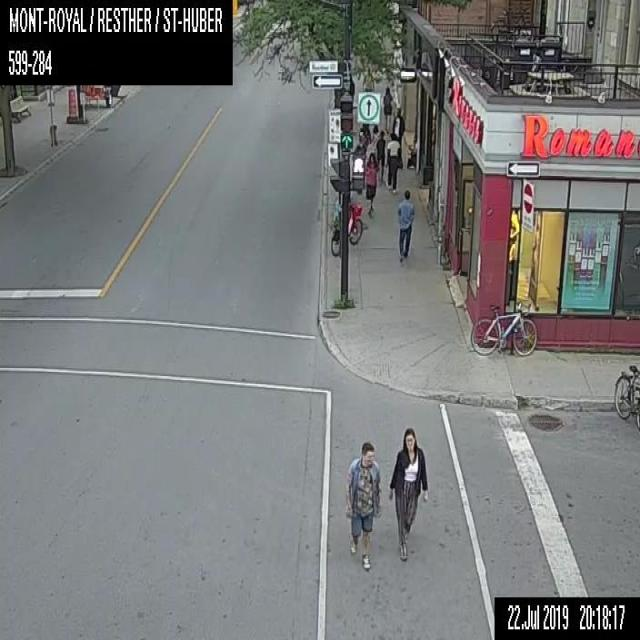construction: (68, 87, 76, 116)
pedestrian: (388, 427, 428, 560), (344, 440, 379, 569), (396, 189, 414, 262), (384, 132, 400, 192), (364, 151, 379, 215), (391, 107, 404, 168), (382, 85, 392, 132), (376, 130, 384, 182), (361, 67, 374, 91), (371, 124, 378, 144)
